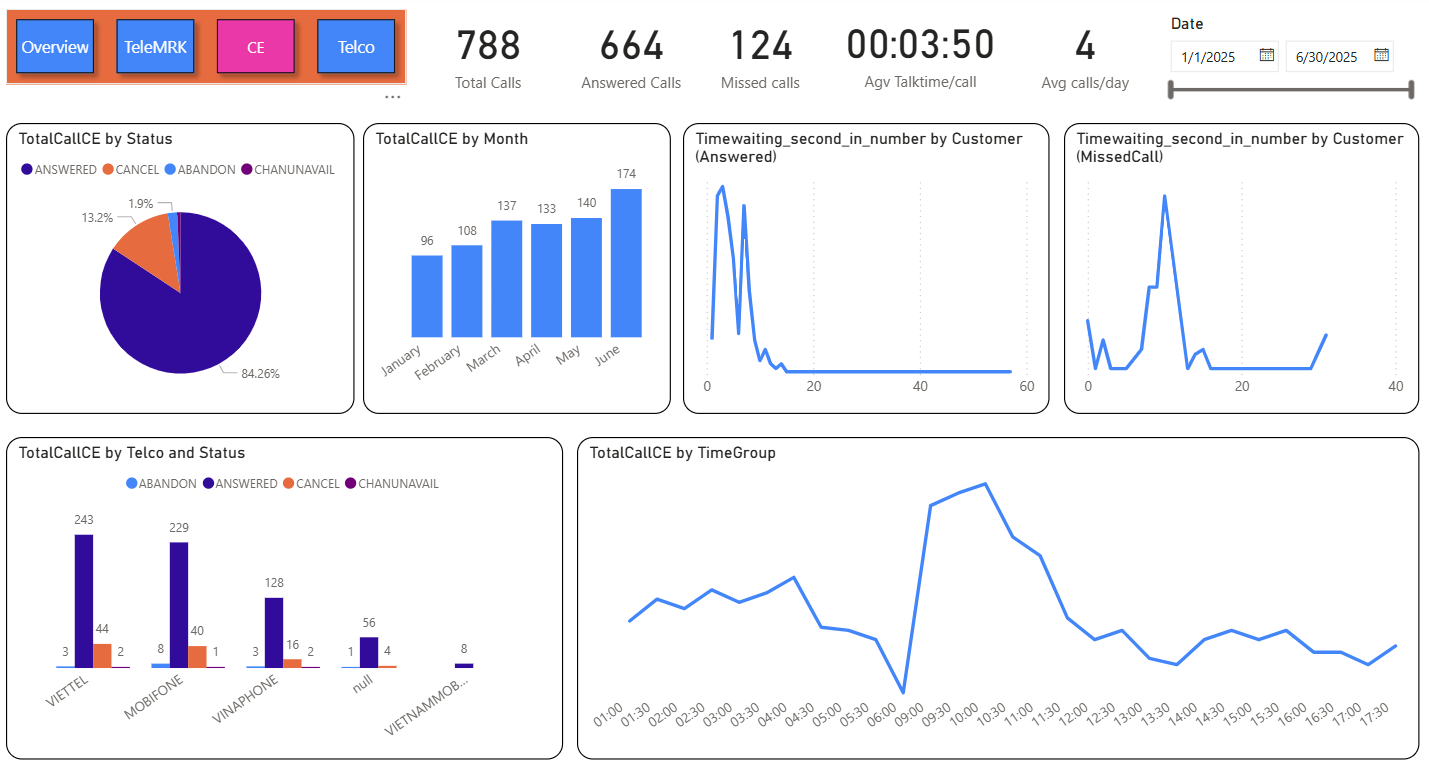

The page's visual inventory and layout, read from the dashboard file:
{"tool":"powerbi","page":{"name":"CE","canvas":[1280,720],"ordinal":2},"visuals":[{"type":"card","fields":{"Values":["Hotline.TotalCallCE"]},"box":[369.8,2.5,131.5,92.2],"z":0,"group":"g1"},{"type":"pageNavigator","box":[8,11.5,354.7,66.5],"z":0},{"type":"card","fields":{"Values":["Hotline.CountAnsCE"]},"box":[501.3,2.5,122.7,92.2],"z":1000,"group":"g1"},{"type":"slicer","fields":{"Values":["Hotline.Date"]},"box":[1027.7,11.5,242.1,94.9],"z":1000},{"type":"group","id":"g1","title":"Group 1","box":[369.8,1.8,650.8,93.1],"z":2000},{"type":"card","fields":{"Values":["Hotline.CountMisscallCE"]},"box":[623.8,2.8,107,92.2],"z":2000,"group":"g1"},{"type":"card","fields":{"Values":["Hotline.AvgTalktime_CE_per_day_hours"]},"box":[731.8,1.8,174.7,92.2],"z":3000,"group":"g1"},{"type":"pieChart","fields":{"Y":["Hotline.TotalCallCE"],"Category":["Hotline.Status"]},"box":[8,112.6,309.5,258],"z":3000},{"type":"card","fields":{"Values":["Hotline.AvgCallCE_per_day"]},"box":[908.6,2.7,112.1,92.2],"z":4000,"group":"g1"},{"type":"clusteredColumnChart","fields":{"Category":["Hotline.Telco"],"Series":["Hotline.Status"],"Y":["Hotline.TotalCallCE"]},"box":[8,391,493.9,285.5],"z":4000},{"type":"lineChart","fields":{"Category":["Hotline.TimeGroup"],"Y":["Hotline.TotalCallCE"]},"box":[514.3,391,746.6,285.5],"z":5000},{"type":"lineChart","title":"Timewaiting_second_in_number by Customer (Answered)","fields":{"Category":["Hotline.Timewaiting_second_in_number"],"Y":["Hotline.CountAnsCE"]},"box":[608.3,112.6,325.4,258],"z":6000},{"type":"clusteredColumnChart","fields":{"Category":["Hotline.Date.Variation.Date Hierarchy.Month"],"Y":["Hotline.TotalCallCE"]},"box":[324.5,112.6,273.1,258],"z":7000},{"type":"lineChart","title":"Timewaiting_second_in_number by Customer (MissedCall)","fields":{"Category":["Hotline.Timewaiting_second_in_number"],"Y":["Hotline.CountMisscallCE"]},"box":[946.1,112.6,314.8,258],"z":8000}]}

Visuals, with their boxes on the page's 1280x720 design canvas (x1, y1, x2, y2). These are canvas units, not pixel positions in the 1429x775 screenshot, which may show the page scaled, cropped or inside an application window:
card - Hotline.TotalCallCE: pyautogui.locateOnScreen(370, 2, 501, 95)
pageNavigator: pyautogui.locateOnScreen(8, 12, 363, 78)
card - Hotline.CountAnsCE: pyautogui.locateOnScreen(501, 2, 624, 95)
slicer - Hotline.Date: pyautogui.locateOnScreen(1028, 12, 1270, 106)
"Group 1" group: pyautogui.locateOnScreen(370, 2, 1021, 95)
card - Hotline.CountMisscallCE: pyautogui.locateOnScreen(624, 3, 731, 95)
card - Hotline.AvgTalktime_CE_per_day_hours: pyautogui.locateOnScreen(732, 2, 906, 94)
pieChart - Hotline.TotalCallCE x Hotline.Status: pyautogui.locateOnScreen(8, 113, 318, 371)
card - Hotline.AvgCallCE_per_day: pyautogui.locateOnScreen(909, 3, 1021, 95)
clusteredColumnChart - Hotline.Telco x Hotline.Status: pyautogui.locateOnScreen(8, 391, 502, 676)
lineChart - Hotline.TimeGroup x Hotline.TotalCallCE: pyautogui.locateOnScreen(514, 391, 1261, 676)
"Timewaiting_second_in_number by Customer (Answered)" lineChart: pyautogui.locateOnScreen(608, 113, 934, 371)
clusteredColumnChart - Hotline.Date.Variation.Date Hierarchy.Month x Hotline.TotalCallCE: pyautogui.locateOnScreen(324, 113, 598, 371)
"Timewaiting_second_in_number by Customer (MissedCall)" lineChart: pyautogui.locateOnScreen(946, 113, 1261, 371)
